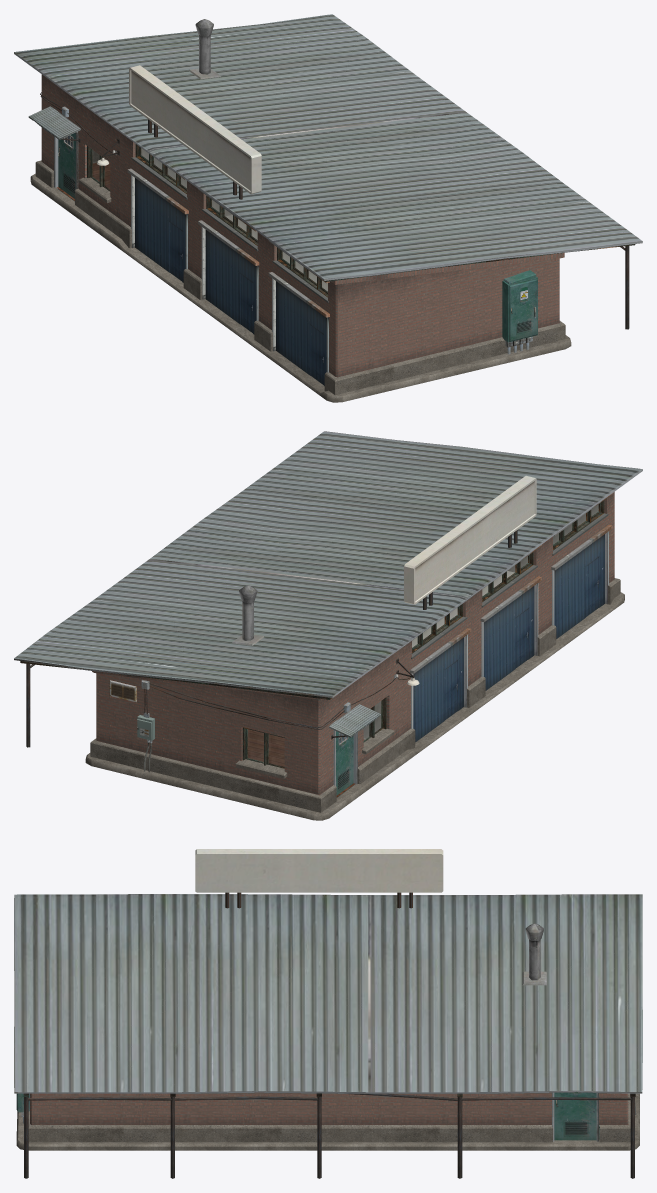
File: warehouse_workshop-72a0f6c9.glb
3 views of the same model, one above another, from view 1: azimuth 30°, elevation 25°; view 2: azimuth 150°, elevation 25°; view 3: azimuth 270°, elevation 25° (orthographic).
Visible parts, largest first — view 1: Plane003_Details_0, Box004_Brick_0, Box034, Object023_Concrete_0, Plane002_Concrete_0, Window_Small011_Details_0, Window_Small012_Details_0, Window_Small010_Details_0, Electrical Box Type2_001_Details_0, Door002_Details_0, Box033_Details_0, Wall_Lamp001_Details_0 (+4 smaller); view 2: Plane003_Details_0, Box004_Brick_0, Object023_Concrete_0, Box034, Plane002_Concrete_0, Window_Small011_Details_0, Window_Small012_Details_0, Window_Small010_Details_0, Box033_Details_0, Door002_Details_0, Window_Small007_Detail_Glass_0, Electrical_Wires002_Details_0 (+6 smaller); view 3: Plane003_Details_0, Box004_Brick_0, Box034, Object023_Concrete_0, Plane002_Concrete_0, Door003_Details_0, Cylinder001.
Part boxes in pixels (<box>): Plane003_Details_0: <box>14,14,642,329</box>; Box004_Brick_0: <box>41,74,564,377</box>; Box034: <box>129,65,261,199</box>; Object023_Concrete_0: <box>35,150,565,395</box>; Plane002_Concrete_0: <box>30,159,571,402</box>; Window_Small011_Details_0: <box>198,220,259,334</box>; Window_Small012_Details_0: <box>268,272,329,385</box>; Window_Small010_Details_0: <box>127,168,188,282</box>; Electrical Box Type2_001_Details_0: <box>502,270,537,354</box>; Door002_Details_0: <box>54,131,78,201</box>; Box033_Details_0: <box>56,148,336,377</box>; Wall_Lamp001_Details_0: <box>28,106,80,142</box>; Plane003_Details_0: <box>14,431,642,747</box>; Box004_Brick_0: <box>92,492,614,794</box>; Object023_Concrete_0: <box>90,578,620,812</box>; Box034: <box>404,475,536,609</box>; Plane002_Concrete_0: <box>85,592,624,820</box>; Window_Small011_Details_0: <box>480,576,541,690</box>; Window_Small012_Details_0: <box>551,525,612,638</box>; Window_Small010_Details_0: <box>410,628,471,742</box>; Box033_Details_0: <box>248,504,598,797</box>; Door002_Details_0: <box>333,730,357,797</box>; Window_Small007_Detail_Glass_0: <box>248,729,284,766</box>; Electrical_Wires002_Details_0: <box>141,677,396,729</box>; Plane003_Details_0: <box>14,894,642,1178</box>; Box004_Brick_0: <box>30,1092,628,1124</box>; Box034: <box>195,849,443,908</box>; Object023_Concrete_0: <box>28,1093,630,1142</box>; Plane002_Concrete_0: <box>16,1093,639,1150</box>; Door003_Details_0: <box>552,1092,599,1141</box>; Cylinder001: <box>522,923,546,985</box>.
Bounding box in the file's own units: 9.48 × 5.18 × 15.92.
4 materials, 4 textured.
